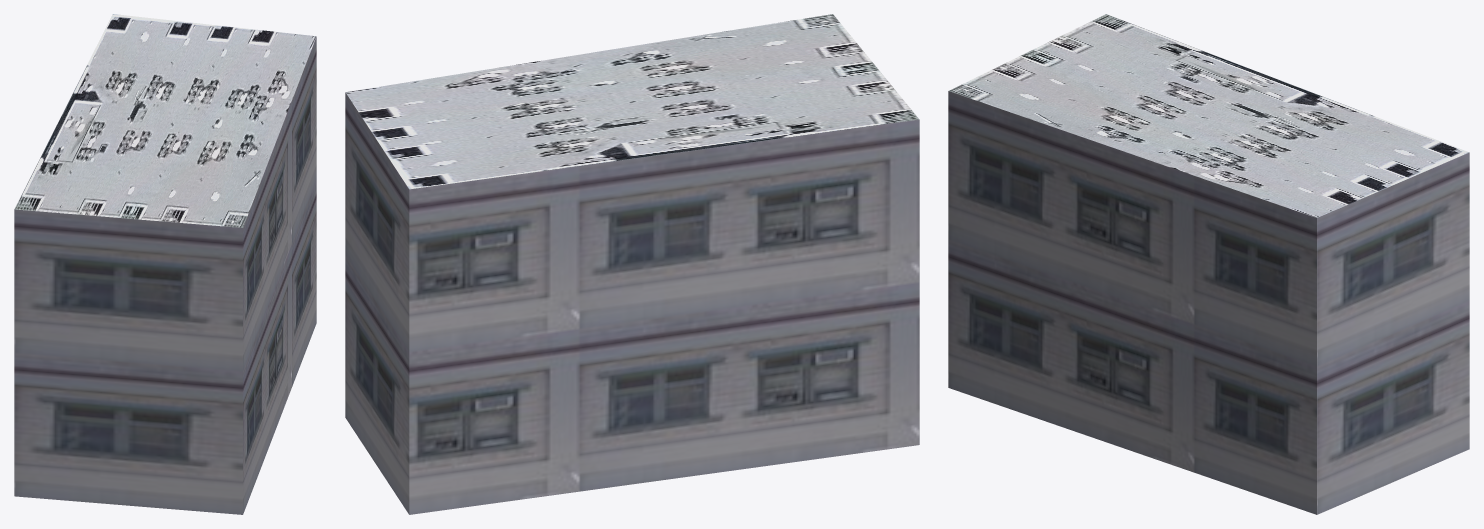
Rendered from ResTex__1708.fbx.
3 renders of one model, left to right at view 1: azimuth 30°, elevation 25°; view 2: azimuth 150°, elevation 25°; view 3: azimuth 270°, elevation 25°, orthographic. The views are drawn at different scales.
Visible parts, largest first — view 1: CityEngineMaterial_1_m, CityEngineMaterial_8_m; view 2: CityEngineMaterial_1_m, CityEngineMaterial_8_m; view 3: CityEngineMaterial_1_m, CityEngineMaterial_8_m.
Part boxes in pixels (x1,y1,x2,y2): CityEngineMaterial_1_m: [14, 37, 316, 514]; CityEngineMaterial_8_m: [14, 14, 316, 227]; CityEngineMaterial_1_m: [345, 92, 919, 514]; CityEngineMaterial_8_m: [345, 14, 919, 189]; CityEngineMaterial_1_m: [948, 91, 1469, 514]; CityEngineMaterial_8_m: [949, 14, 1468, 217].
Size of the model in its own units: 8.84 by 6 by 9.54.
2 materials, 2 textured.
